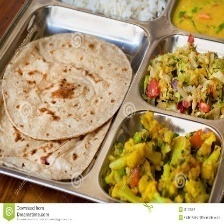dal: (165, 0, 224, 40)
